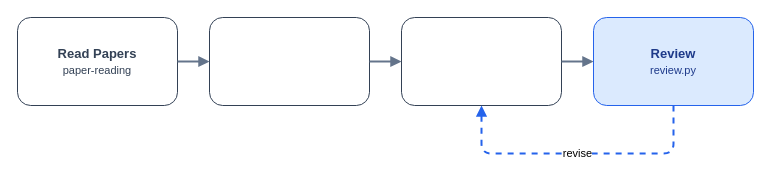
Some shapes in this 771 by 180 pixel diagram are drawn without their labels. The shapes that lost their labels are listed below. From the top down, each one's centre as x and y in pixels, then its label:
At (289,61): "Draw Figures figure-drawing".
At (481,61): "Write paper-writing".
